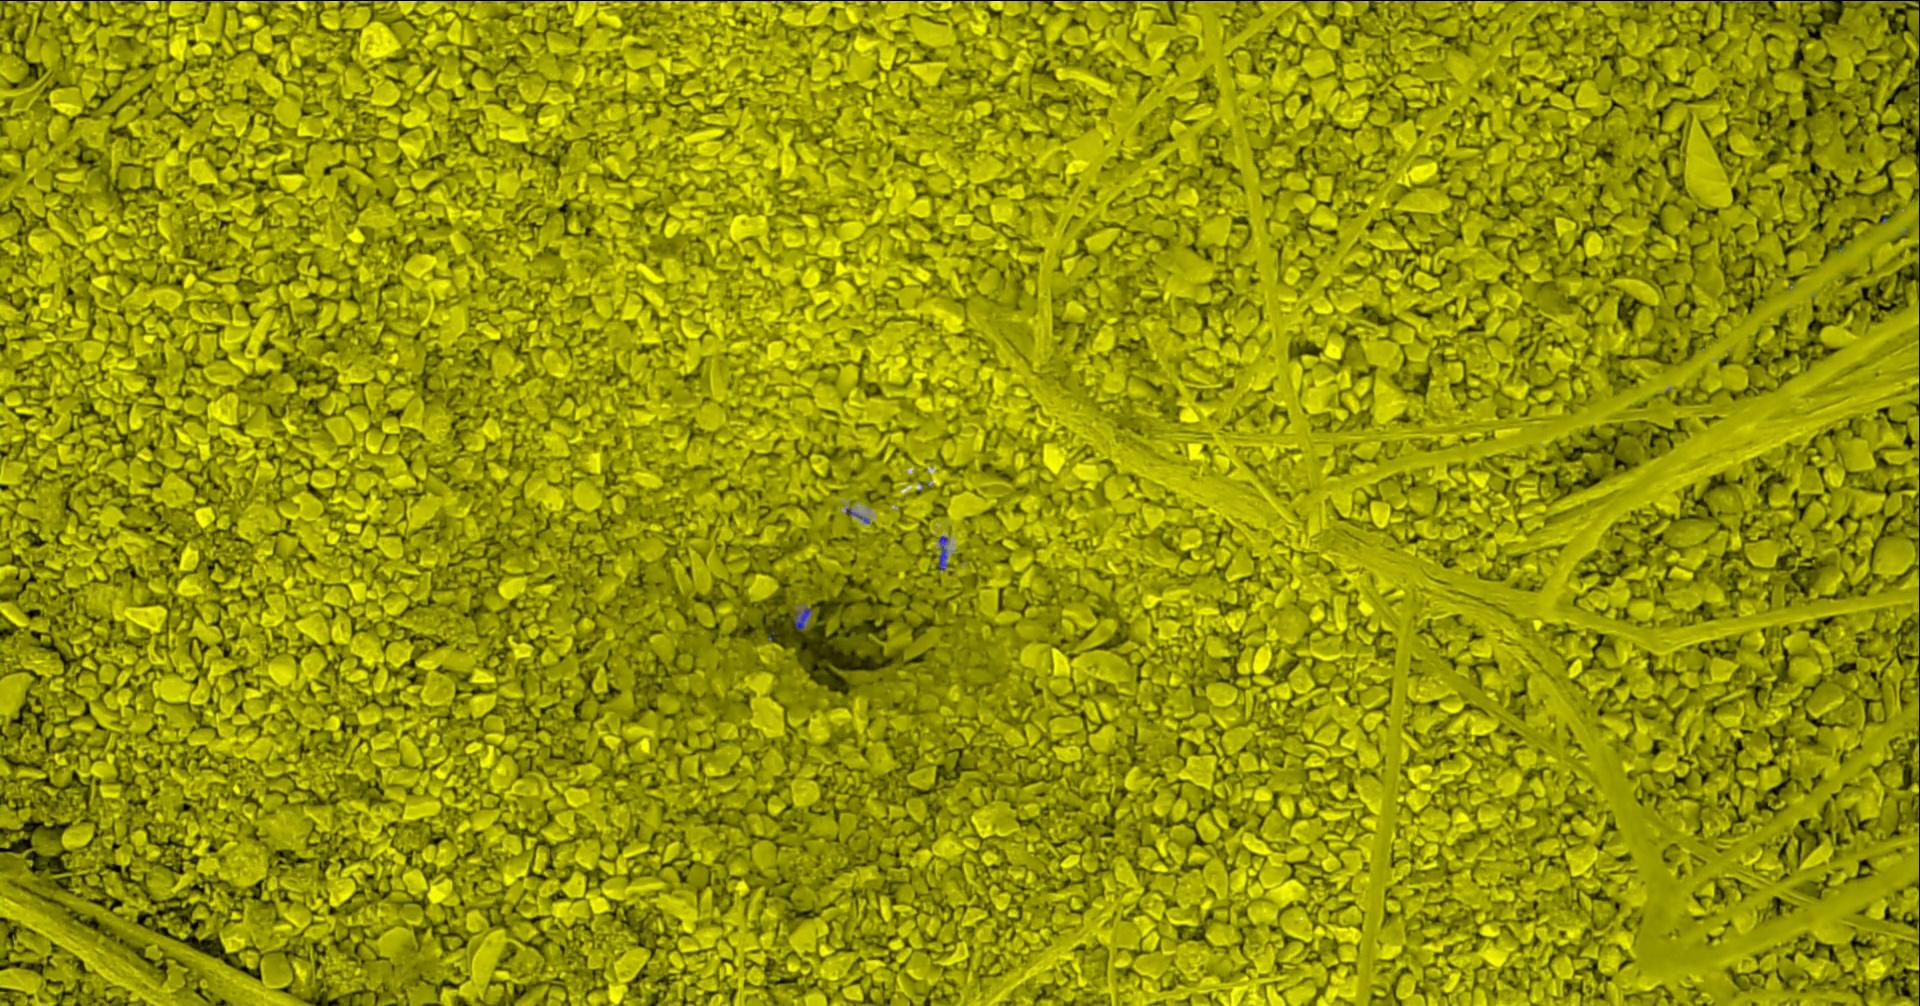ant: (792, 607, 811, 629), (937, 535, 947, 570)
